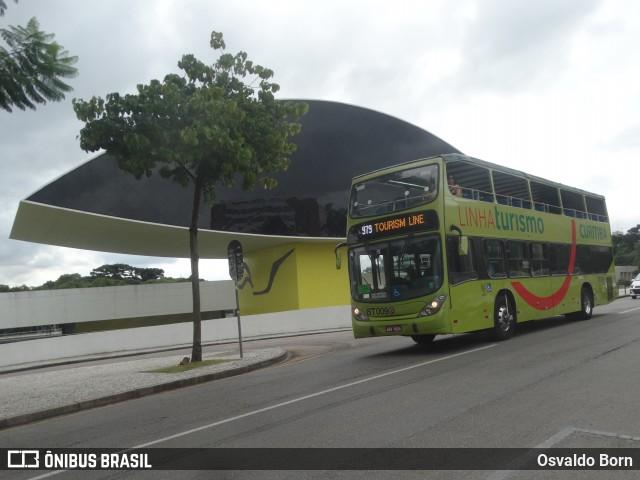TOURISM LINE: (372, 211, 427, 236)
